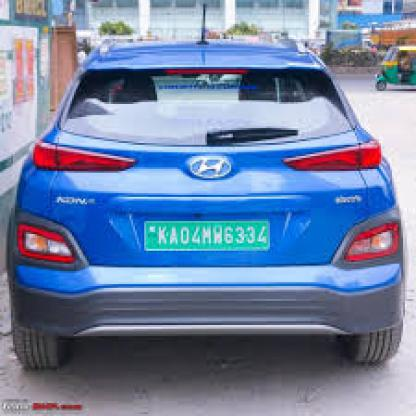car: (7, 35, 402, 372)
